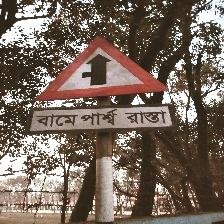Side-road-left: (29, 34, 173, 135)
